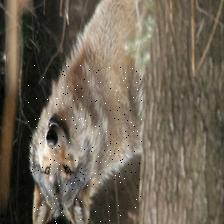WOLF: (28, 65, 142, 224)
